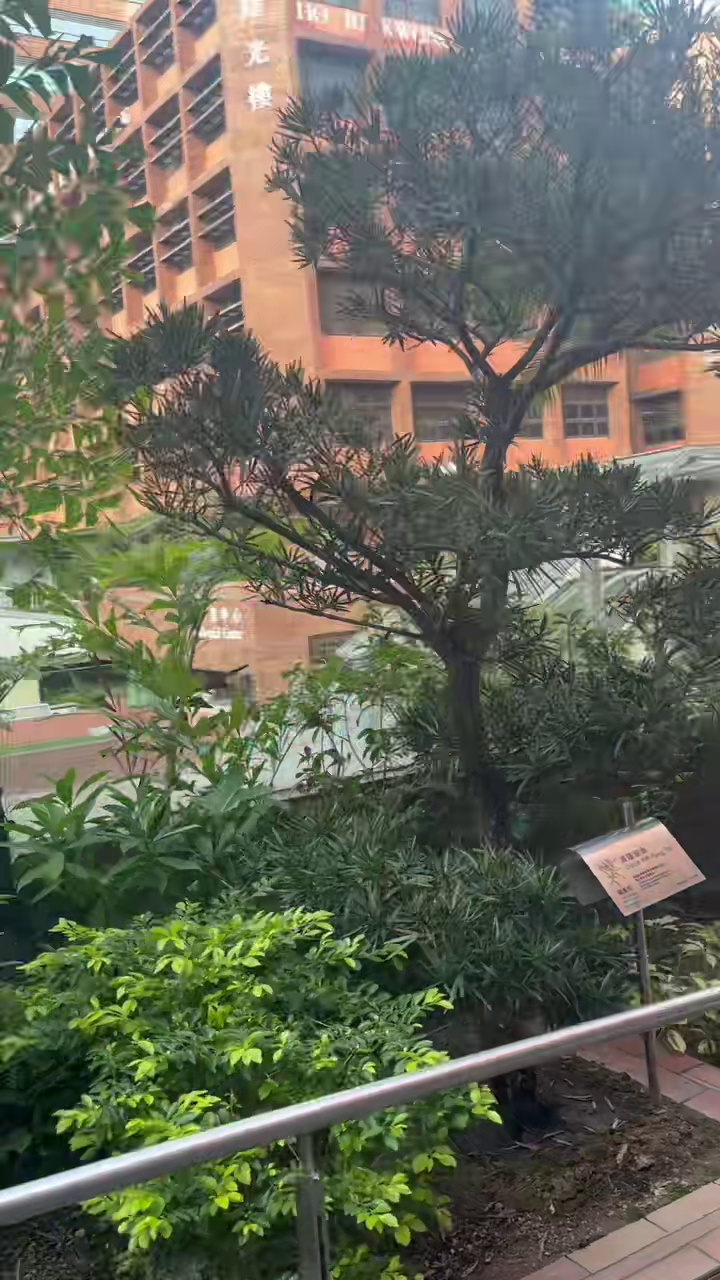Podocarpus macrophyllus: (118, 0, 719, 829)
